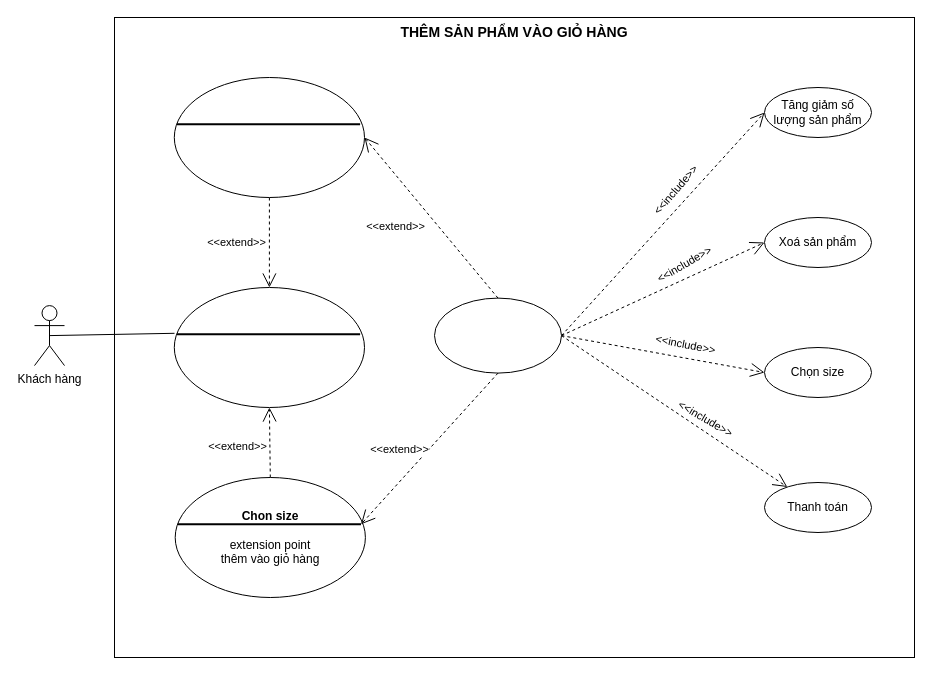
Image size: 932x675. Some labels were removed from this diagram. The shapes that lost their labels are listed below. From the top down, each one's box as (x1, y1, x2, y2) in pixels, then its label:
(173, 76, 364, 198): Chọn số lượng extension point thêm vào giỏ hàng
(173, 286, 364, 408): Chọn sản phẩm extension point chọn size chọn số lượng
(434, 297, 562, 373): Thêm sản phẩm vào gió hàng
